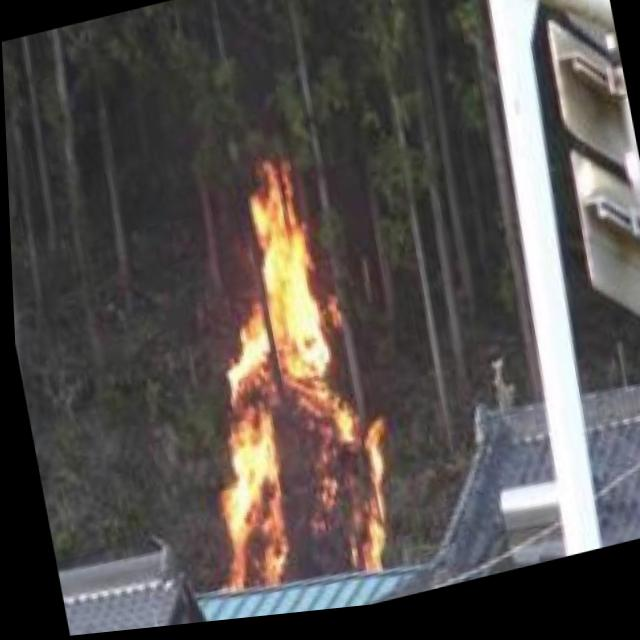Fire: (154, 180, 415, 622)
